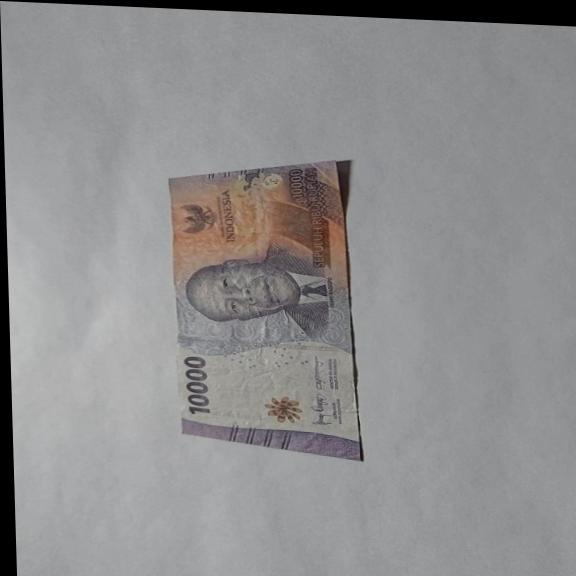Kertas: (165, 151, 364, 462), (181, 354, 211, 415)
